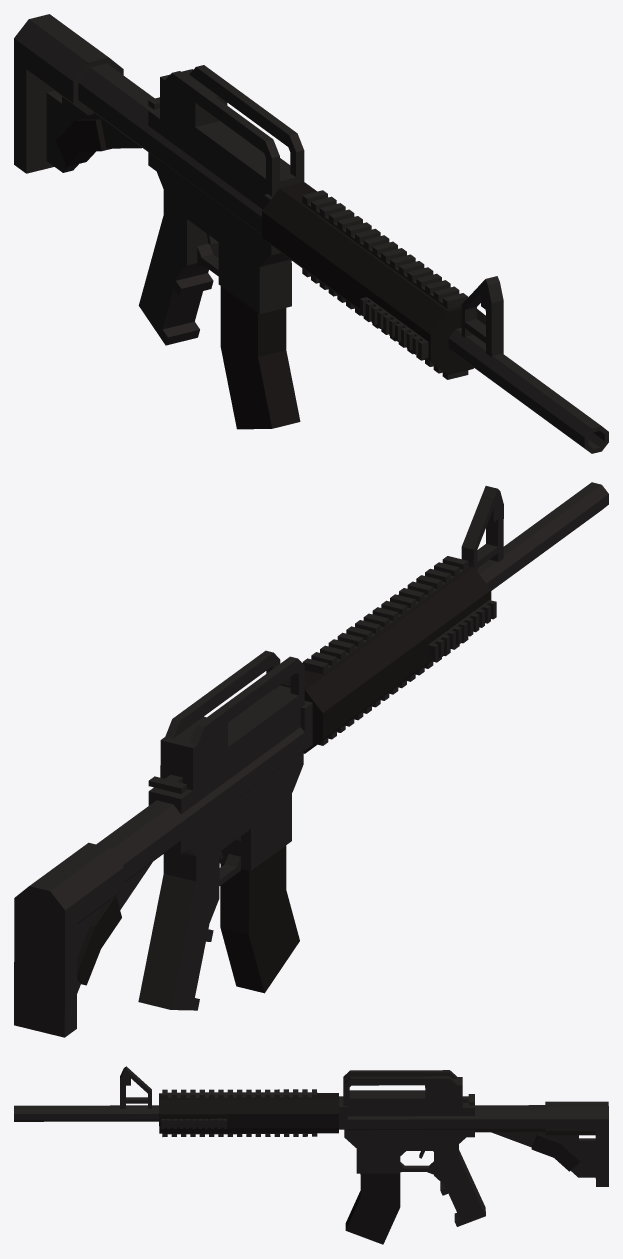
Rendered from m16__minecraft.glb.
The picture shows the model from 3 angles, top to bottom: view 1: azimuth 30°, elevation 25°; view 2: azimuth 150°, elevation 25°; view 3: azimuth 270°, elevation 25°; orthographic projection. The views are drawn at different scales.
Visible parts, largest first — view 1: Object_2; view 2: Object_2; view 3: Object_2.
Part boxes in pixels (box(x1,y1,x2,y2)): Object_2: box(14, 14, 608, 453); Object_2: box(14, 482, 608, 1037); Object_2: box(14, 1066, 608, 1244).
Size of the model in its own units: 3.72 by 15.35 by 47.72.
Materials: 1 (1 with a texture image).
